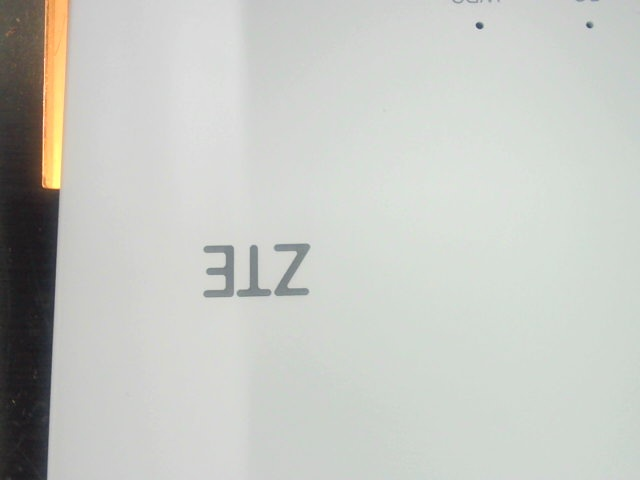AO_ZTESmall: (186, 237, 324, 306)
